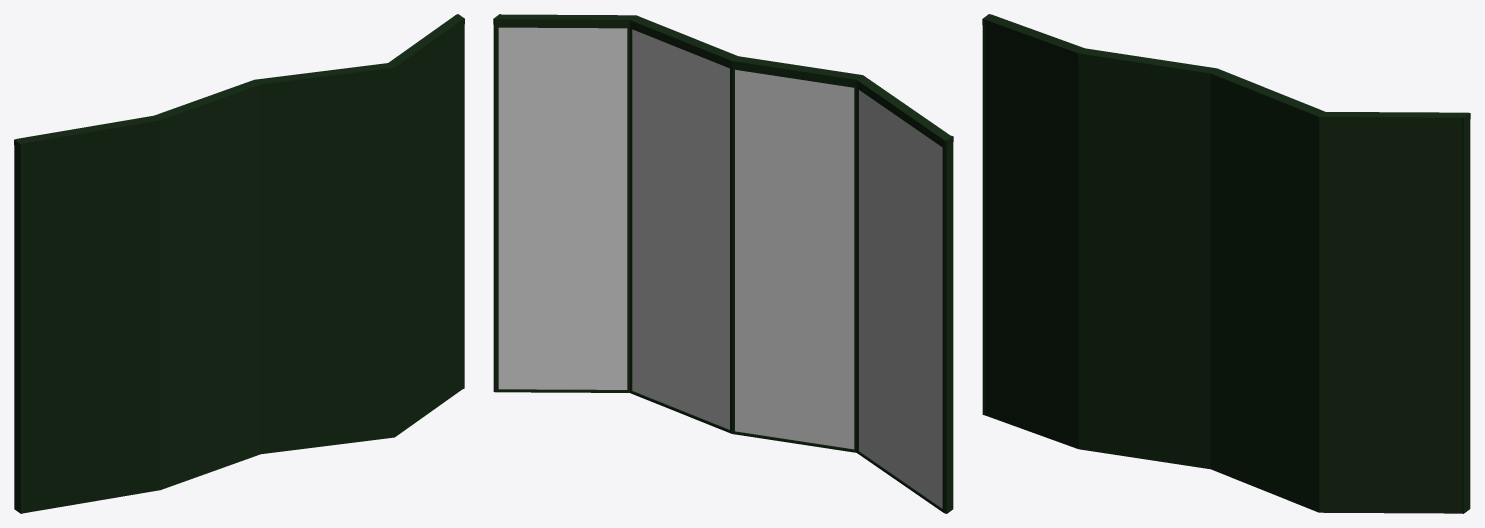
The model's file is ByoubObstracle.fbx.
3 views of the same model, side by side, from view 1: azimuth 30°, elevation 25°; view 2: azimuth 150°, elevation 25°; view 3: azimuth 330°, elevation 25° (orthographic). The views are drawn at different scales.
Parts seen in each view (by area): view 1: ByoubOBJ; view 2: ByoubOBJ; view 3: ByoubOBJ.
Boxes of the visible parts, x1,y1,x2,y2 form: ByoubOBJ: (14, 14, 464, 513); ByoubOBJ: (493, 14, 953, 513); ByoubOBJ: (982, 14, 1470, 513).
Bounding box in the file's own units: 1.23 × 1.01 × 0.1855.
